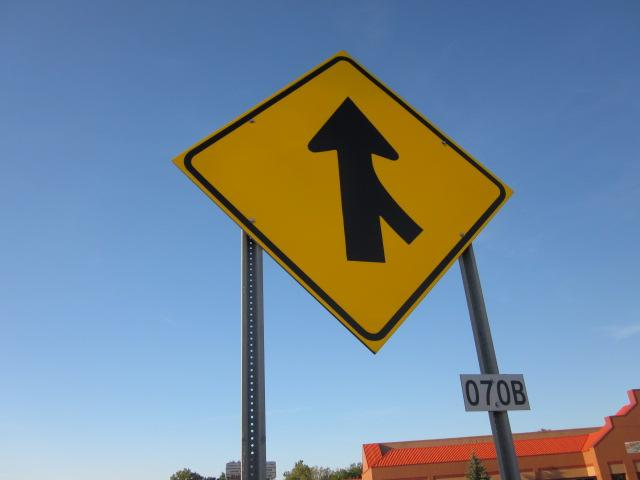warning: (170, 48, 520, 356)
